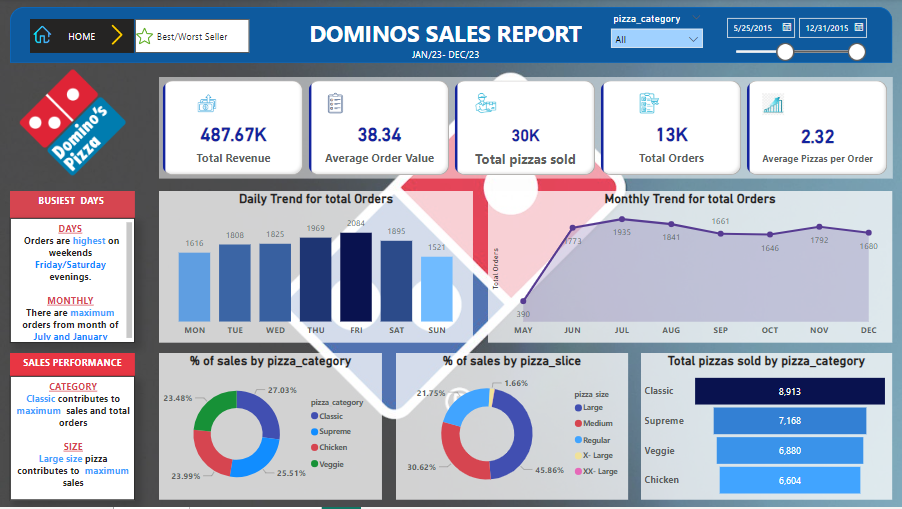

Layout of this report page (visuals, bound fields, positions):
{"tool":"powerbi","page":{"name":"HOME","canvas":[1280,720],"ordinal":0},"visuals":[{"type":"cardVisual","fields":{"Data":["Key Measures.Total Revenue","Key Measures.Average Order Value","Key Measures.Total pizzas sold","Key Measures.Total Orders","Key Measures.Average Pizzas per Order"]},"box":[226.8,110.9,1039.8,144.5],"z":0},{"type":"shape","box":[15.9,11,1250.5,79.5],"z":1000},{"type":"textbox","box":[428,21.3,409.6,56.7],"z":2000},{"type":"textbox","box":[428.3,65.5,409.9,38.6],"z":3000},{"type":"clusteredColumnChart","title":"Daily Trend for total Orders","fields":{"Category":["pizza_sales.Order Day"],"Y":["Key Measures.Total Orders"]},"box":[226.8,272.1,445.1,215],"z":4000},{"type":"areaChart","title":"Monthly Trend for total Orders","fields":{"Category":["pizza_sales.Order Month"],"Y":["Key Measures.Total Orders"]},"box":[693.1,272.1,572.6,215.4],"z":6000},{"type":"donutChart","title":"% of sales by pizza_category","fields":{"Category":["pizza_sales.pizza_category"],"Y":["Key Measures.Total Revenue"]},"box":[226.8,501.7,316.1,208.3],"z":10000},{"type":"donutChart","title":"% of sales by pizza_slice","fields":{"Y":["Key Measures.Total Revenue"],"Category":["pizza_sales.pizza_size"]},"box":[562.7,501.7,328.8,208.3],"z":11000},{"type":"funnel","fields":{"Category":["pizza_sales.pizza_category"],"Y":["Key Measures.Total pizzas sold"]},"box":[909.9,501.7,355.7,208.3],"z":12000},{"type":"textbox","box":[15.8,272.2,177.1,38.9],"z":14000},{"type":"textbox","box":[15.6,310.4,177.2,177.2],"z":15000},{"type":"textbox","box":[15.8,501.1,177.1,33.1],"z":16000},{"type":"textbox","box":[15.8,534.2,177.1,175.7],"z":17000},{"type":"slicer","fields":{"Values":["pizza_sales.pizza_category"]},"box":[856.8,14.4,149.8,70.6],"z":18000},{"type":"slicer","fields":{"Values":["pizza_sales.order_date"]},"box":[1019.5,17.1,217.6,86.8],"z":19000},{"type":"pageNavigator","box":[43.7,28.6,147.8,48.7],"z":20000},{"type":"pageNavigator","box":[193,28.8,162.7,49],"z":21000},{"type":"image","box":[129.6,31.7,77.8,38.9],"z":22000},{"type":"image","box":[174.7,35.3,63.8,33.6],"z":23000},{"type":"image","box":[43.7,30.2,35.3,40.3],"z":24000},{"type":"image","box":[1.4,95,206.9,160.2],"z":25000}]}

Visuals, with their boxes in screenshot pixels (x1, y1, x2, y2), scaled from the page's 1280x720 canvas onto the 902x509 screenshot:
cardVisual - Key Measures.Total Revenue x Key Measures.Average Order Value: box(160, 78, 893, 181)
shape: box(11, 8, 892, 64)
textbox: box(302, 15, 590, 55)
textbox: box(302, 46, 591, 74)
"Daily Trend for total Orders" clusteredColumnChart: box(160, 192, 473, 344)
"Monthly Trend for total Orders" areaChart: box(488, 192, 892, 345)
"% of sales by pizza_category" donutChart: box(160, 355, 383, 502)
"% of sales by pizza_slice" donutChart: box(397, 355, 628, 502)
funnel - pizza_sales.pizza_category x Key Measures.Total pizzas sold: box(641, 355, 892, 502)
textbox: box(11, 192, 136, 220)
textbox: box(11, 219, 136, 345)
textbox: box(11, 354, 136, 378)
textbox: box(11, 378, 136, 502)
slicer - pizza_sales.pizza_category: box(604, 10, 709, 60)
slicer - pizza_sales.order_date: box(718, 12, 872, 73)
pageNavigator: box(31, 20, 135, 55)
pageNavigator: box(136, 20, 251, 55)
image: box(91, 22, 146, 50)
image: box(123, 25, 168, 49)
image: box(31, 21, 56, 50)
image: box(1, 67, 147, 180)
